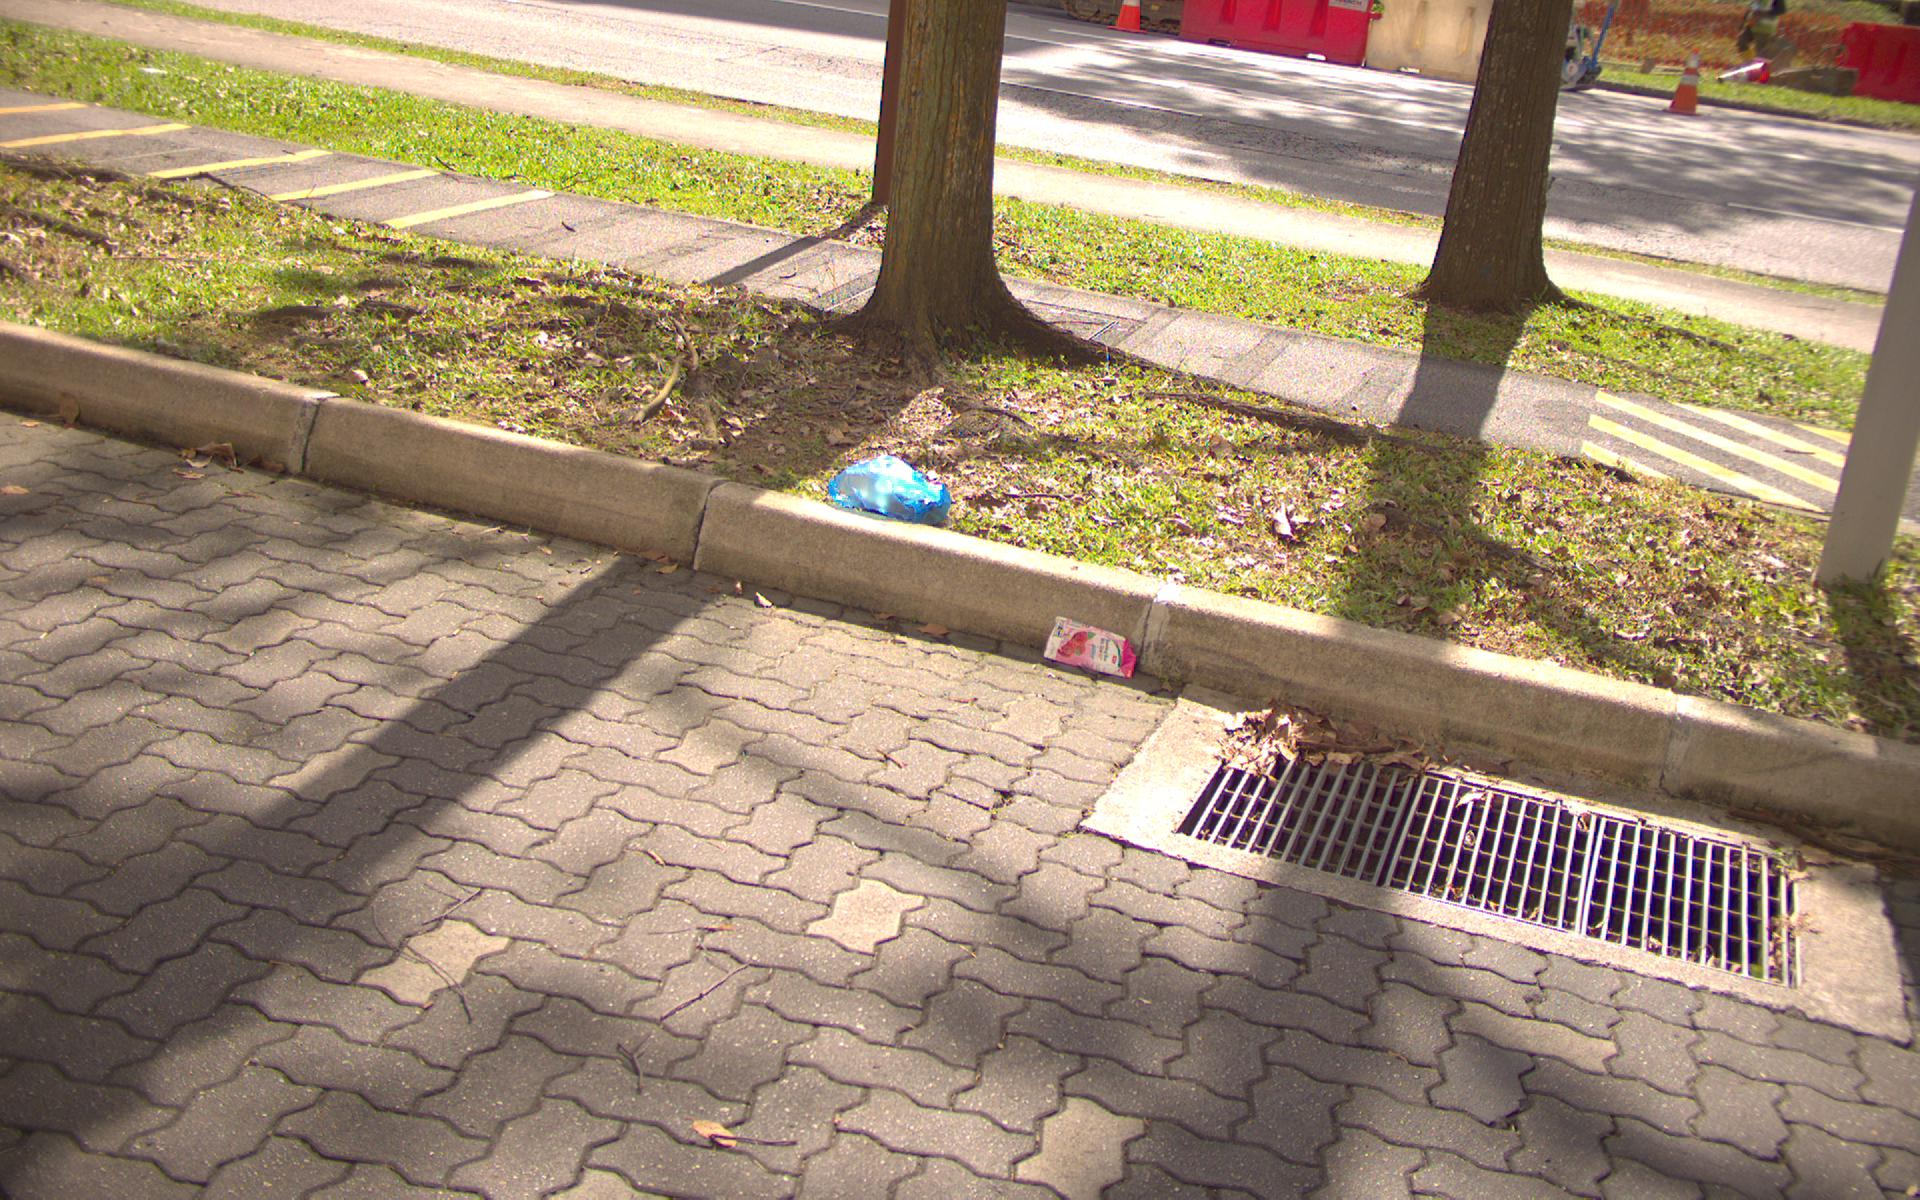curb_dic_medium: (1057, 708, 1903, 990)
road_turf_low: (751, 324, 1281, 488), (39, 184, 272, 337), (1295, 276, 1534, 337)
